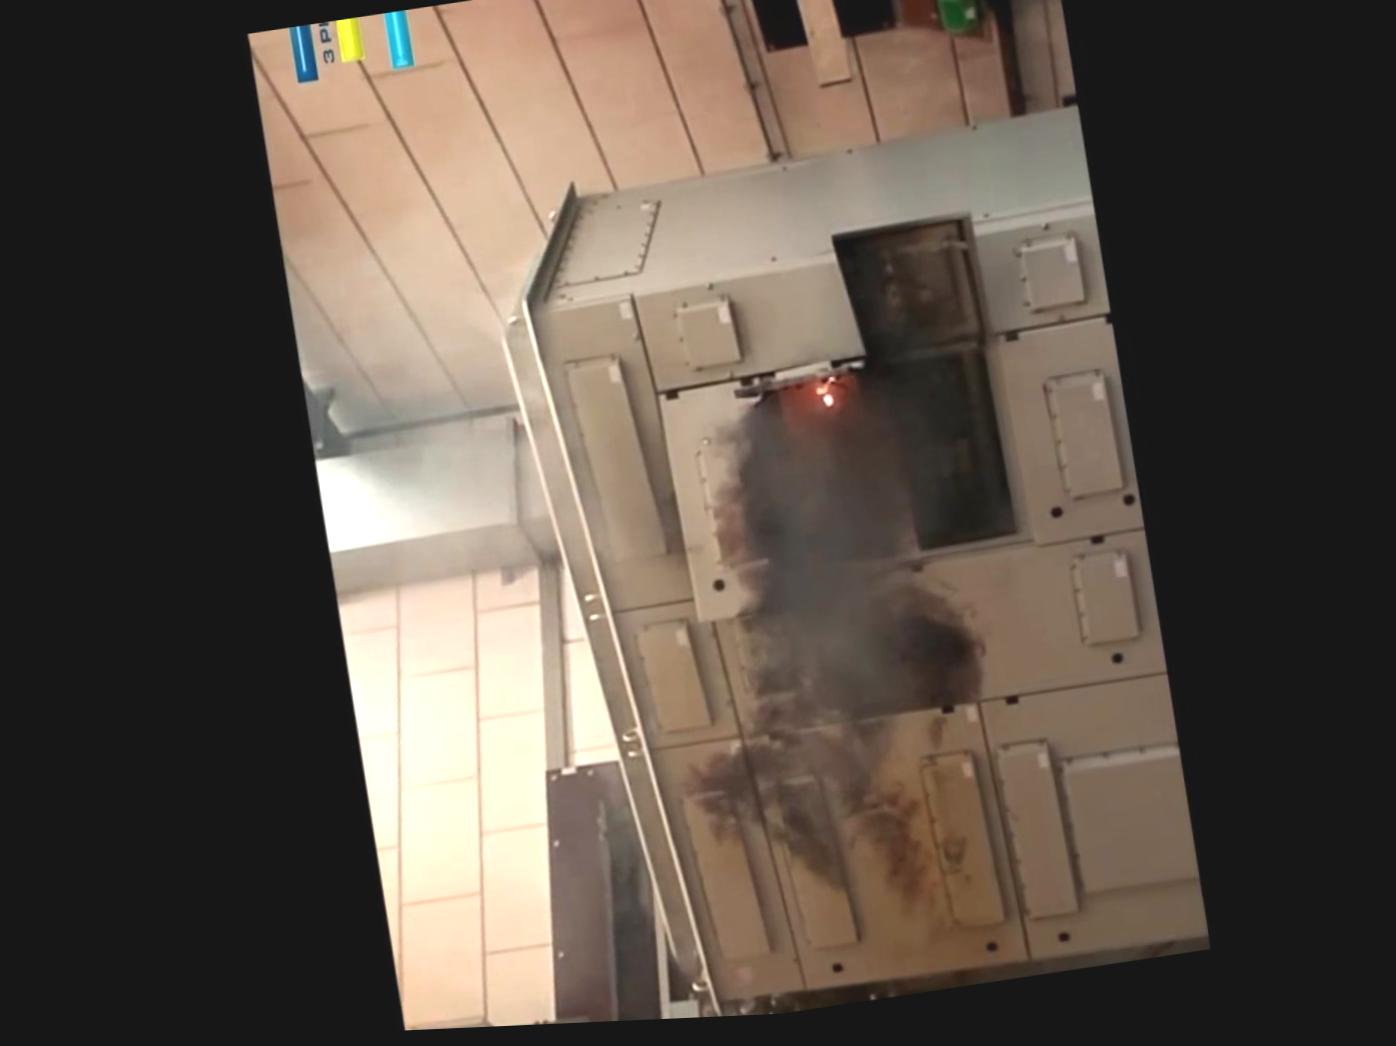fire: (652, 332, 987, 426)
smoke: (577, 419, 1118, 915)
